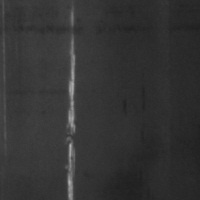scratches: (62, 6, 81, 200)
